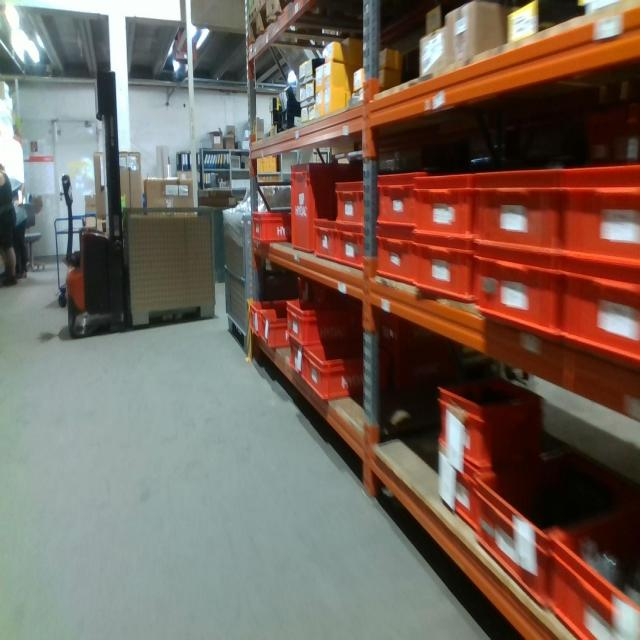pallet: (245, 3, 271, 47), (271, 1, 302, 21)
pallet_truck: (65, 55, 141, 339)
small_load_carrier: (479, 452, 639, 605), (437, 360, 547, 478), (476, 244, 560, 358), (555, 529, 640, 634), (564, 257, 639, 375), (562, 168, 640, 279), (475, 168, 559, 266), (294, 163, 364, 250), (304, 343, 401, 400), (285, 298, 384, 346), (415, 171, 473, 245), (414, 237, 472, 308), (434, 451, 480, 529), (377, 171, 415, 232), (375, 228, 413, 281), (252, 296, 297, 336), (335, 180, 366, 229), (339, 219, 368, 269), (254, 209, 290, 244), (317, 213, 339, 260), (262, 312, 287, 346), (286, 342, 304, 374)
stillage: (122, 203, 216, 329), (222, 203, 252, 357)
